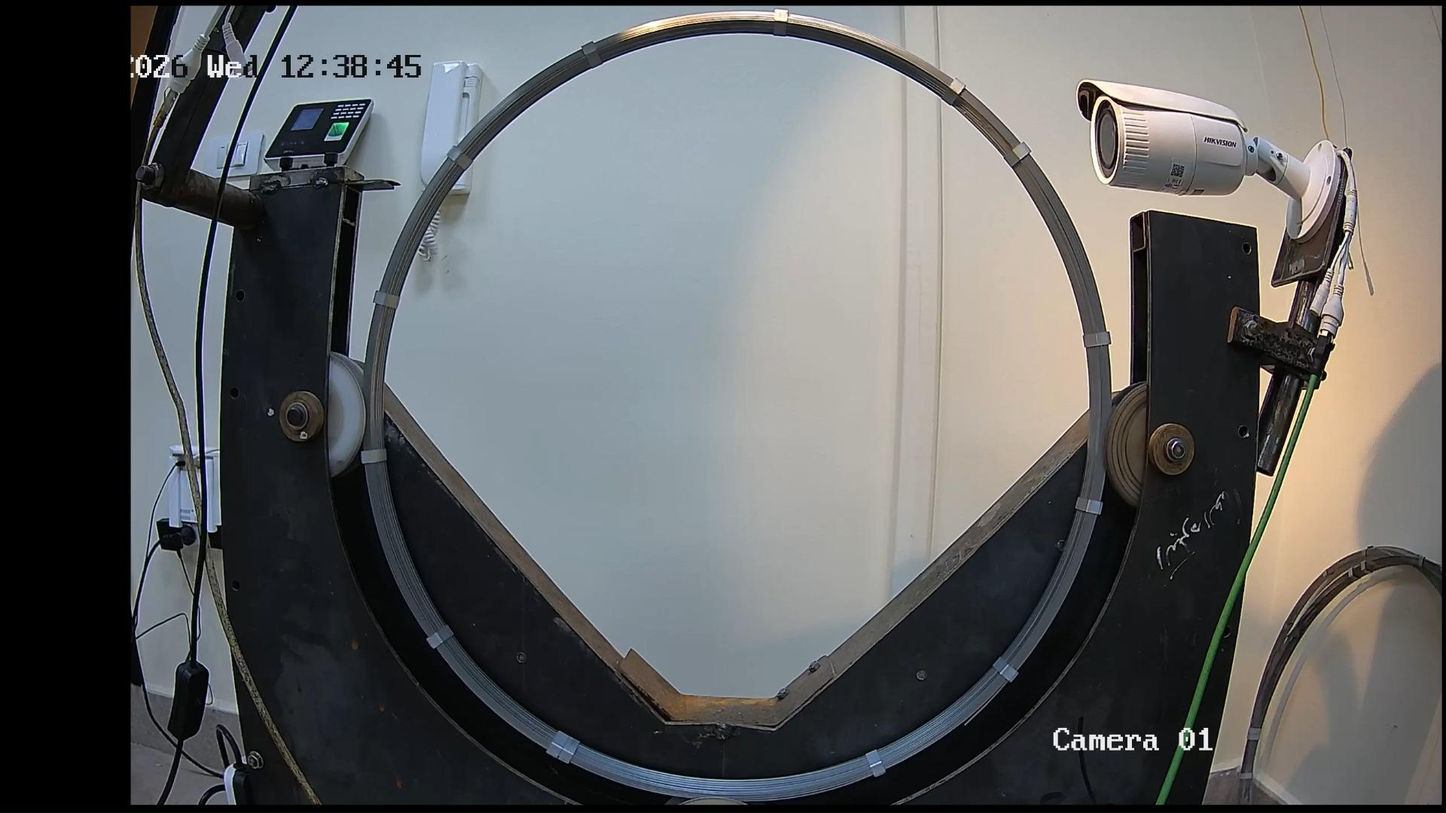Clamp: (941, 79, 966, 106), (1004, 142, 1030, 167), (447, 145, 471, 169), (994, 656, 1017, 681), (547, 731, 568, 758), (427, 626, 451, 648), (559, 737, 579, 763), (866, 750, 885, 775), (1083, 331, 1110, 348), (374, 290, 398, 309), (582, 42, 601, 65), (773, 9, 789, 35), (359, 449, 386, 464), (1077, 498, 1101, 514)
